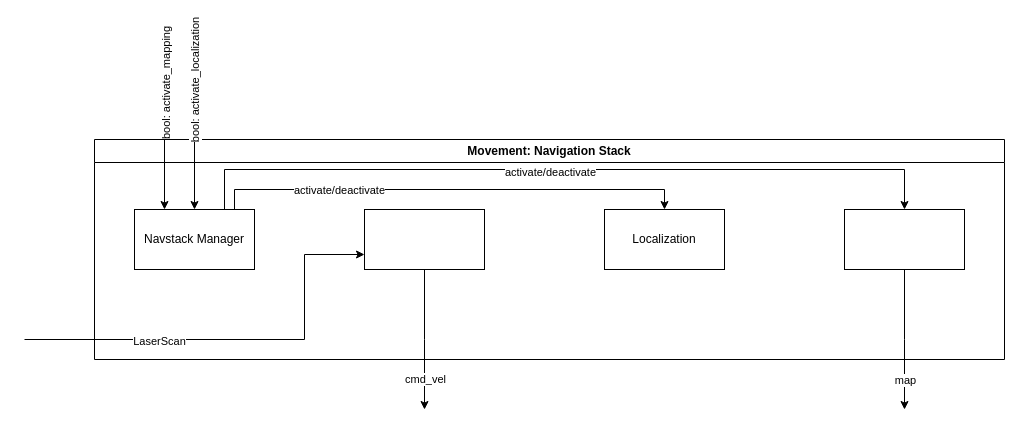
The diagram is 1022 pixels wide and 435 high, and some of its shapes have lost their labels. The centre of each missing label's shape, as x and y in pixels:
"Navigation" goes at (x=424, y=239).
"SLAM Toolbox (Mapping)" goes at (x=904, y=239).
